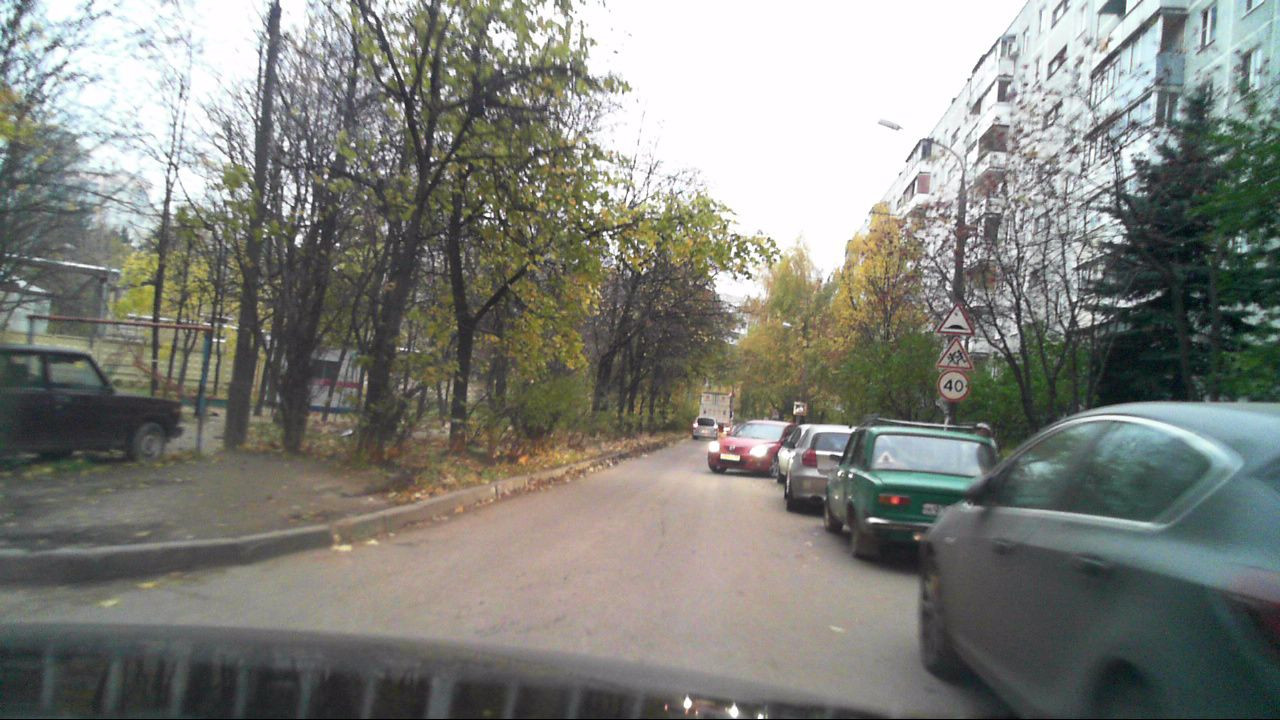speed_warning_40: (937, 372, 969, 399)
